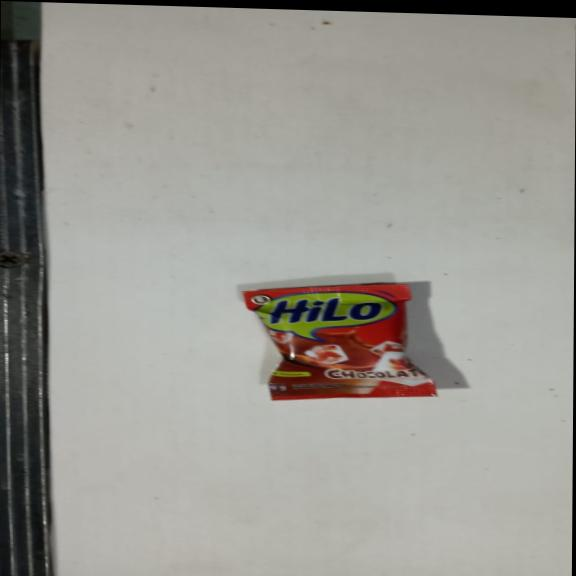Plastik: (236, 278, 438, 405)
